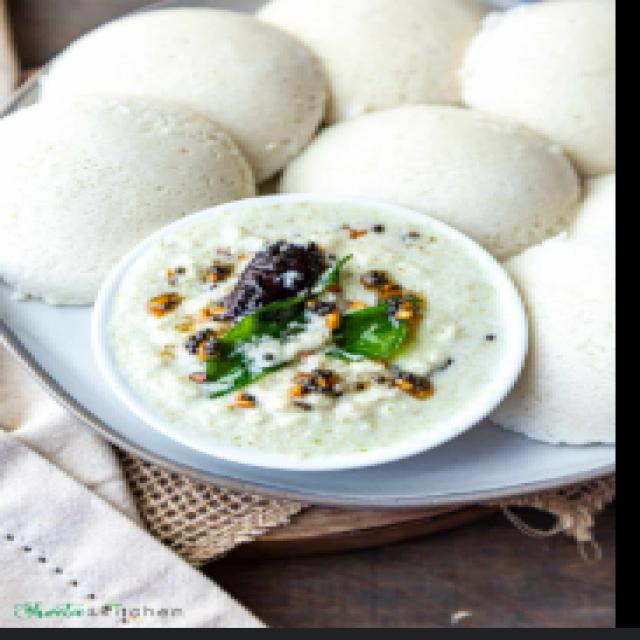coconut chutney: (202, 197, 484, 467)
